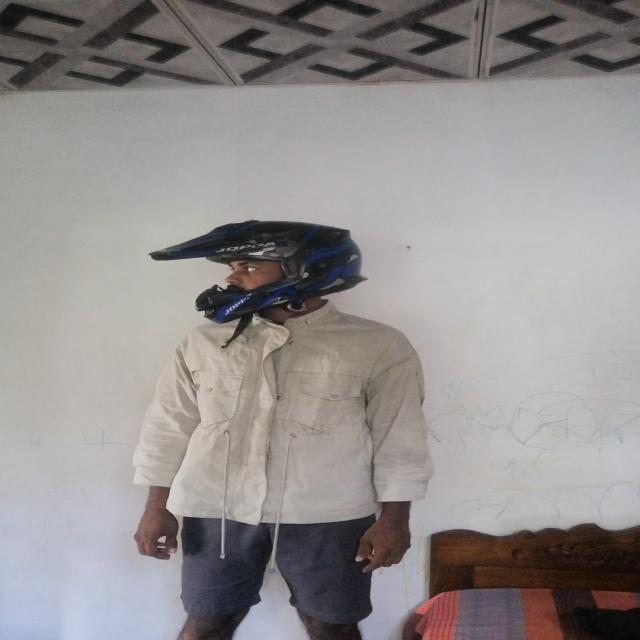Helmet_Wearer: (152, 216, 372, 326)
Jacket_Wearer: (148, 308, 436, 531)
Person: (142, 216, 421, 640)
